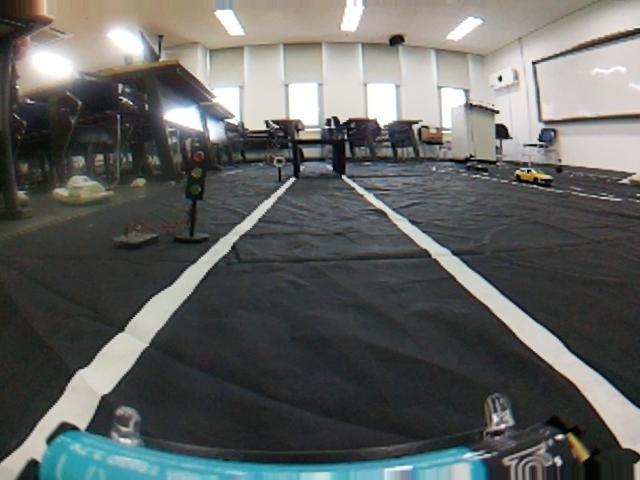red_light: (191, 148, 209, 196)
straight: (51, 221, 640, 479)
